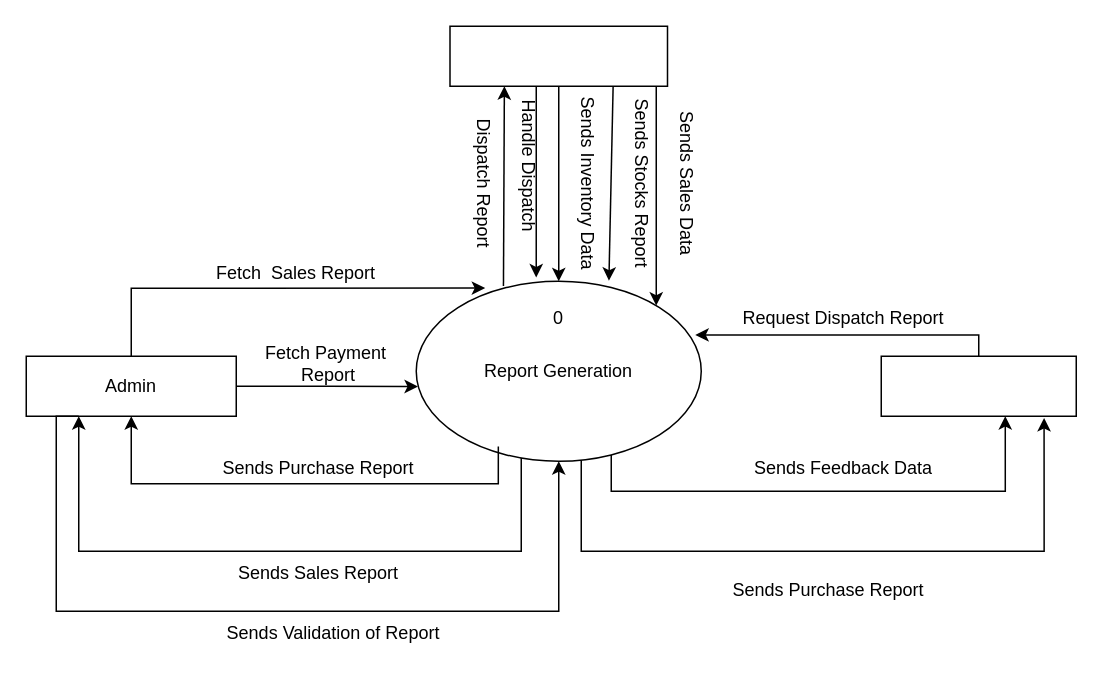
Some shapes in this 1103 by 683 pixel diagram are drawn without their labels. The centre of each missing label's shape, as x and y in pixels:
"Customer" goes at point 978,385.
"Suppiler" goes at point 558,55.
